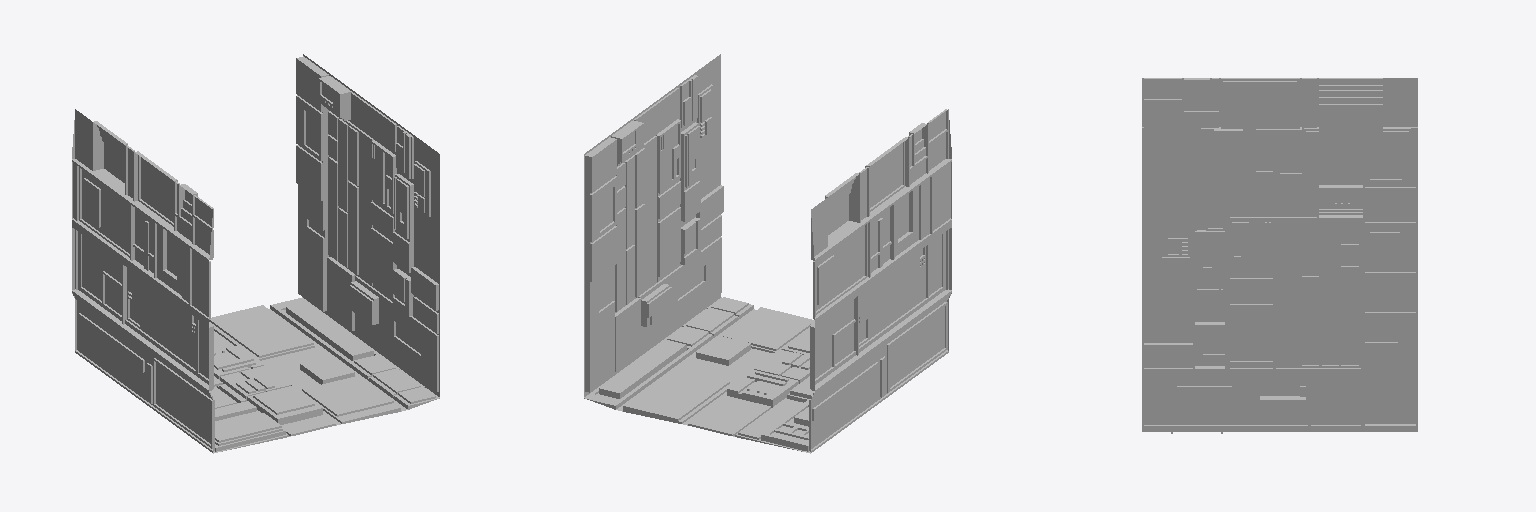
The model's file is sketchfab_tuto.blend.obj.
The picture shows the model from 3 angles: view 1: azimuth 30°, elevation 25°; view 2: azimuth 150°, elevation 25°; view 3: azimuth 270°, elevation 25°; orthographic projection.
Visible parts, largest first — view 1: trench_1_Plane-tex; view 2: trench_1_Plane-tex; view 3: trench_1_Plane-tex.
Boxes of the visible parts, x1=… form: trench_1_Plane-tex: x1=72, y1=54, x2=439, y2=453; trench_1_Plane-tex: x1=584, y1=54, x2=951, y2=453; trench_1_Plane-tex: x1=1142, y1=78, x2=1417, y2=433.
Size of the model in its own units: 12.2 by 12.5 by 12.6.